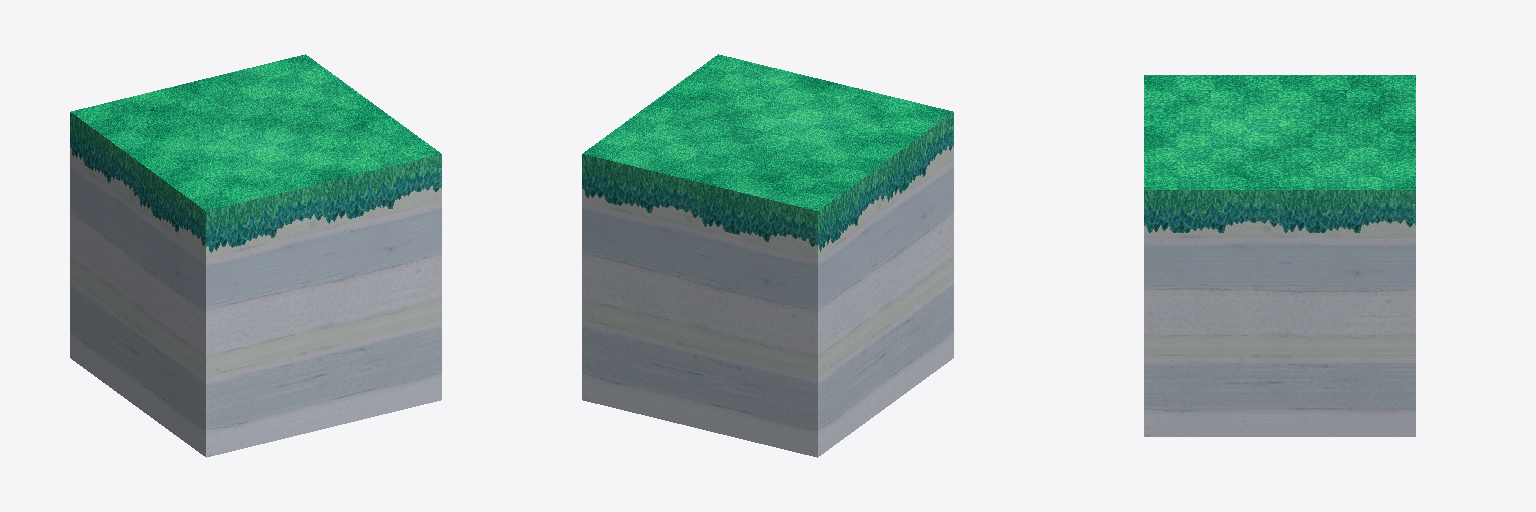
3 renders of one model, left to right at view 1: azimuth 30°, elevation 25°; view 2: azimuth 150°, elevation 25°; view 3: azimuth 270°, elevation 25°, orthographic.
Visible parts, largest first — view 1: Cube_White_Cube.001; view 2: Cube_White_Cube.001; view 3: Cube_White_Cube.001.
Part boxes in pixels (x1,y1,x2,y2): Cube_White_Cube.001: (70,54,441,457); Cube_White_Cube.001: (582,54,953,457); Cube_White_Cube.001: (1144,75,1415,436).
Size of the model in its own units: 1 by 1 by 1.
Materials: 1 (1 with a texture image).